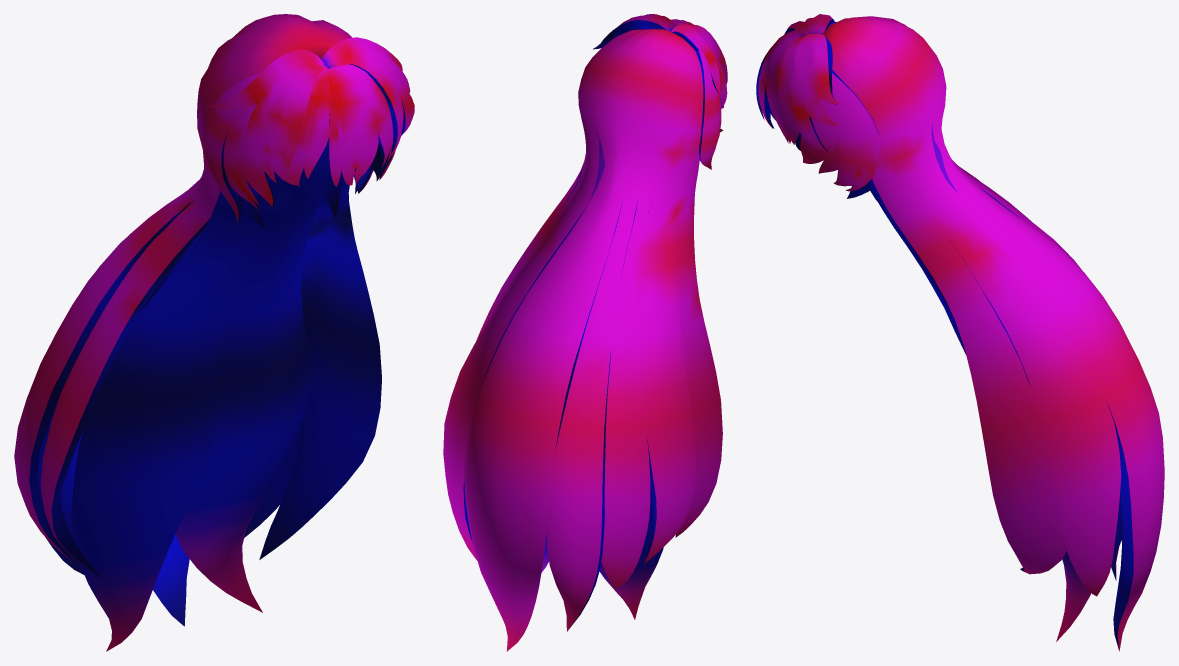
Rendered from head.fbx.
3 renders of one model, left to right at view 1: azimuth 30°, elevation 25°; view 2: azimuth 150°, elevation 25°; view 3: azimuth 270°, elevation 25°, orthographic. The views are drawn at different scales.
Parts seen in each view (by area): view 1: FogGirl_Hair; view 2: FogGirl_Hair; view 3: FogGirl_Hair.
Boxes of the visible parts, x1,y1,x2,y2 form: FogGirl_Hair: (14,14,414,651); FogGirl_Hair: (443,14,727,651); FogGirl_Hair: (756,14,1164,651).
Size of the model in its own units: 38.12 by 80.05 by 48.39.
